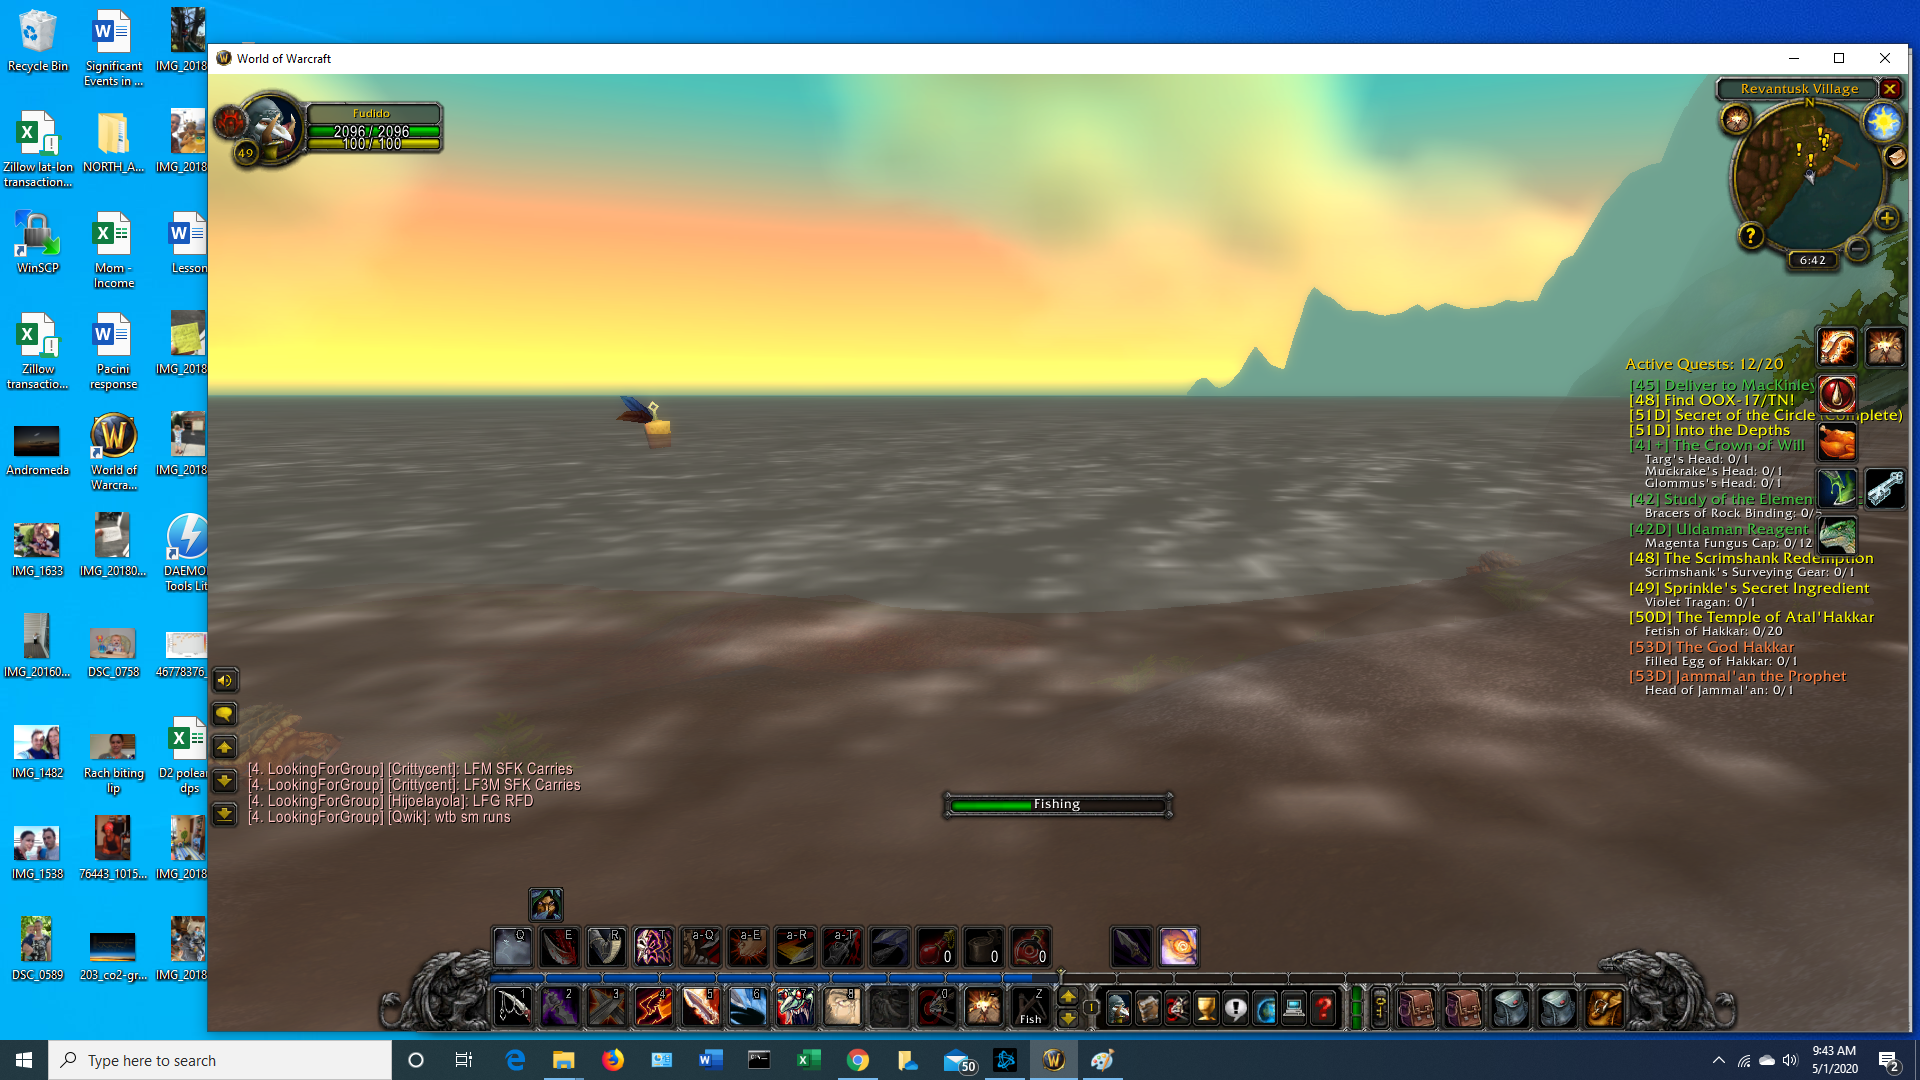bobble: (615, 388, 684, 458)
